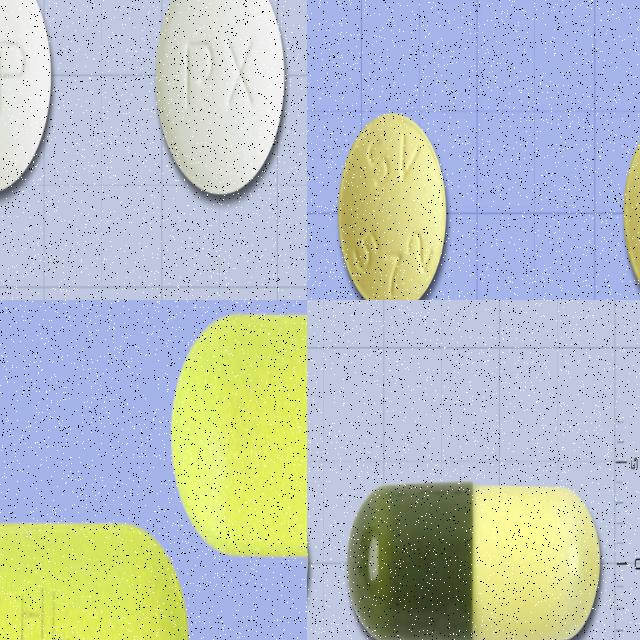Kymoxin Cap-500mg: (347, 483, 601, 640)
Mabid: (172, 310, 307, 553), (0, 521, 190, 640)
Proxco Tab: (155, 0, 286, 194), (0, 0, 52, 194)
Tricyline-N Cap: (337, 108, 448, 300)
